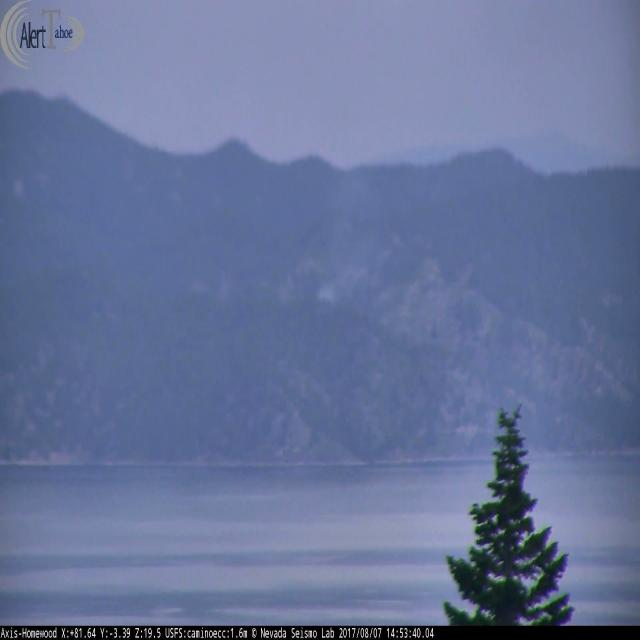smoke: (316, 282, 340, 307)
